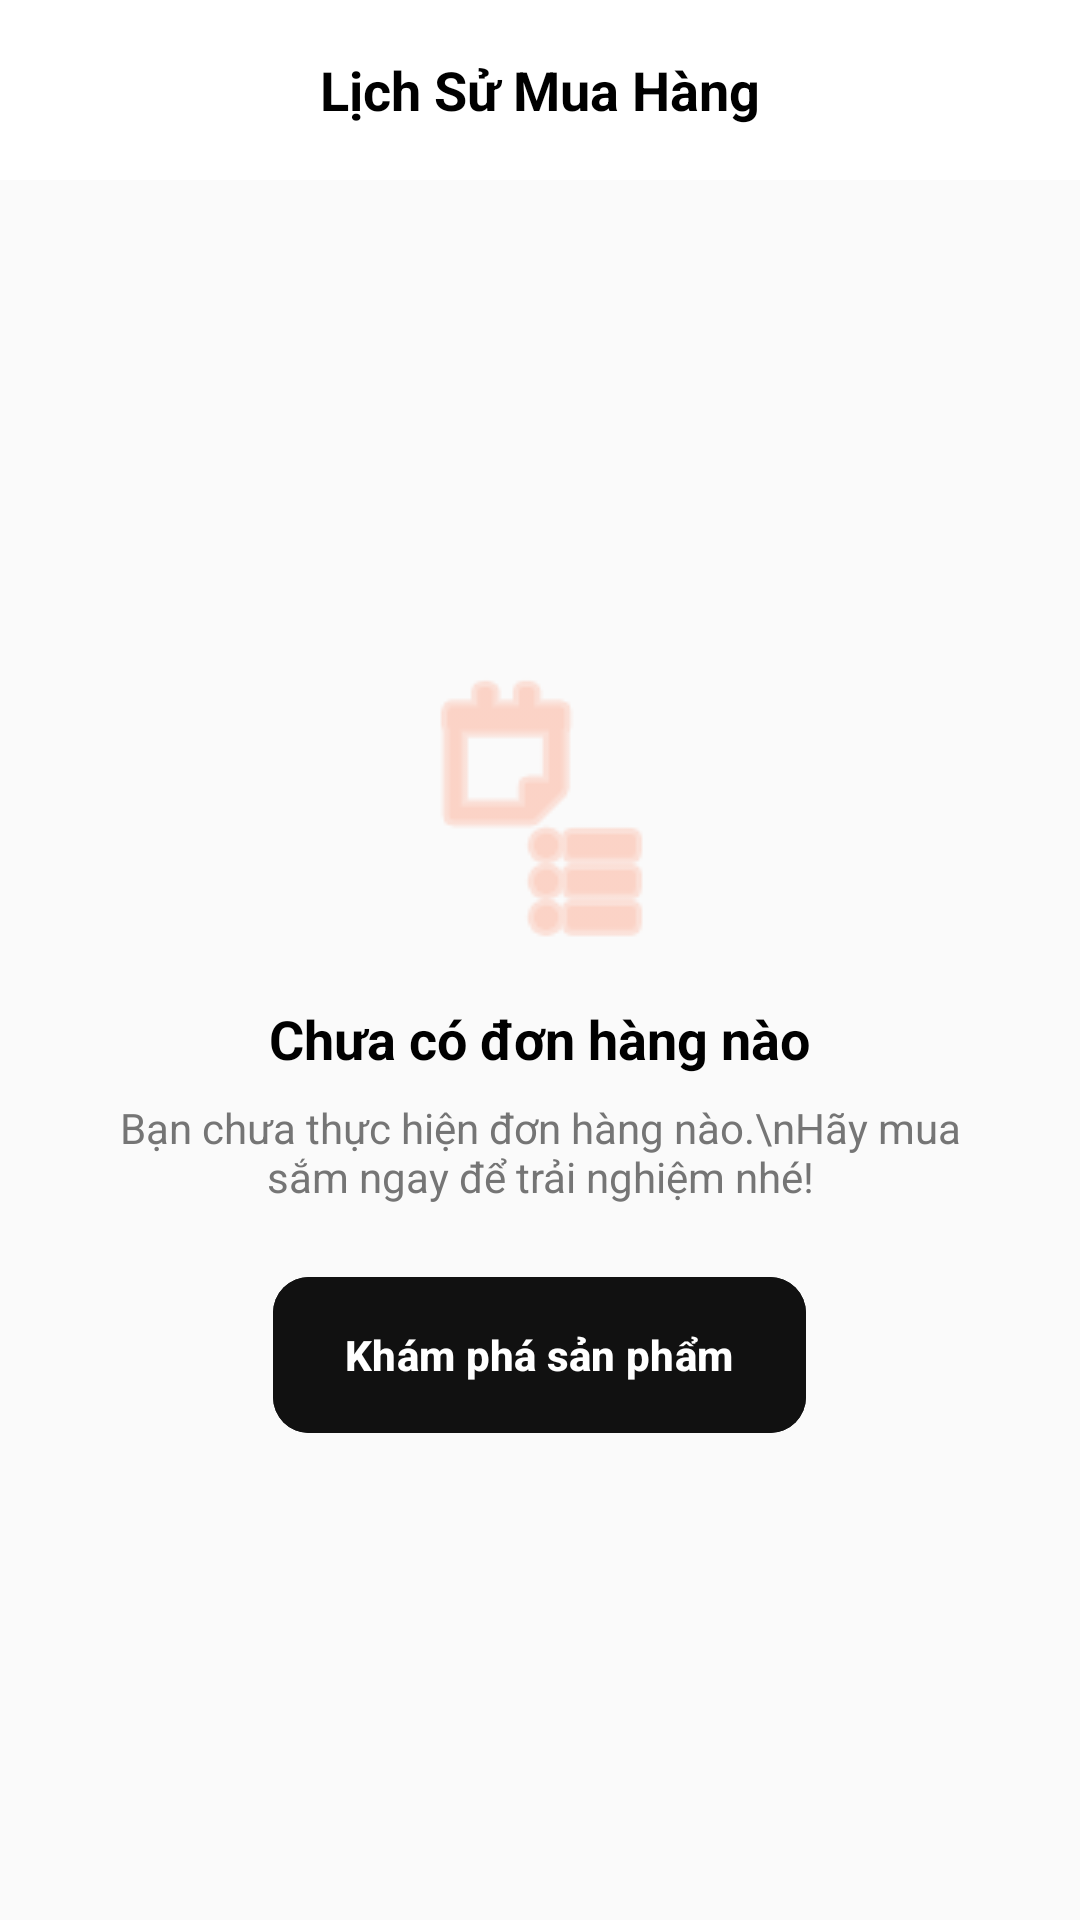

Named icons in this screenshot (1080 x 1920) and their bounding boxes, (x1, y1, x2, y2):
agenda: (442, 682, 641, 935)
